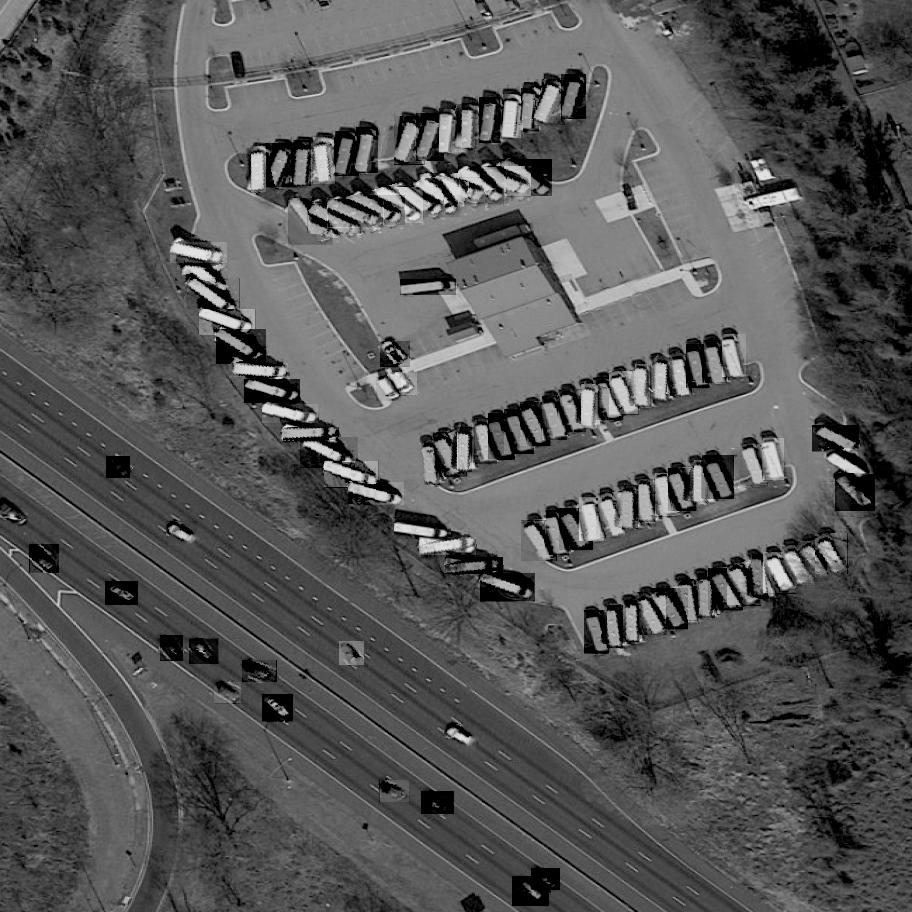large-vehicle: (289, 196, 335, 247), (187, 277, 240, 318), (500, 157, 553, 197), (179, 255, 229, 297), (419, 172, 460, 222), (458, 165, 504, 208), (216, 327, 266, 366), (375, 184, 423, 224), (300, 437, 358, 470), (308, 201, 362, 236), (391, 184, 446, 218), (347, 194, 405, 226), (477, 165, 532, 198), (328, 199, 384, 230), (652, 586, 688, 633), (834, 473, 875, 514), (199, 308, 256, 337), (433, 431, 468, 477), (709, 566, 744, 612), (727, 561, 762, 607), (480, 573, 535, 602), (265, 142, 298, 190), (522, 519, 558, 563), (822, 449, 867, 484), (534, 79, 567, 126), (702, 453, 734, 501), (559, 506, 593, 551), (394, 117, 425, 166), (324, 461, 380, 488), (504, 408, 536, 455), (763, 550, 796, 595), (798, 540, 834, 581), (244, 378, 300, 404), (816, 531, 849, 575), (636, 591, 668, 636), (593, 376, 624, 422), (521, 401, 552, 447), (348, 482, 404, 507), (609, 371, 640, 416), (558, 387, 587, 435), (416, 113, 444, 162), (783, 544, 814, 588), (812, 424, 859, 453), (434, 177, 486, 203), (740, 442, 769, 488), (489, 413, 517, 460), (597, 491, 625, 538), (669, 468, 698, 513), (171, 242, 228, 264), (579, 496, 604, 544), (584, 610, 610, 656), (561, 74, 586, 121), (445, 557, 503, 577), (262, 404, 319, 424), (336, 131, 360, 178), (543, 396, 568, 441), (356, 127, 379, 175), (705, 337, 728, 385), (723, 333, 747, 379), (546, 509, 569, 557), (419, 538, 477, 557), (313, 137, 336, 184), (686, 344, 710, 389), (475, 417, 497, 466), (655, 472, 678, 518), (400, 279, 456, 297), (480, 96, 501, 144), (671, 351, 692, 398), (763, 437, 784, 481), (439, 108, 459, 153), (653, 357, 672, 403), (395, 523, 449, 539), (502, 94, 521, 139), (294, 140, 312, 187), (679, 579, 698, 623), (234, 363, 288, 378), (753, 554, 770, 599), (607, 605, 624, 649), (456, 427, 472, 472), (700, 573, 716, 618), (582, 384, 598, 428), (425, 440, 440, 486), (251, 146, 266, 192), (283, 428, 338, 440), (640, 479, 655, 522), (462, 103, 476, 149), (524, 89, 539, 131), (623, 485, 637, 529), (636, 364, 650, 406), (626, 601, 639, 642), (695, 461, 707, 502)
small-vehicle: (513, 872, 552, 908), (189, 636, 219, 668), (261, 695, 293, 725), (381, 338, 410, 370), (30, 543, 60, 573), (243, 658, 277, 684), (445, 723, 479, 749), (388, 369, 417, 399), (106, 580, 138, 607), (422, 790, 455, 816), (167, 520, 197, 547), (376, 374, 402, 403), (339, 639, 365, 668), (531, 866, 561, 891), (380, 779, 410, 804), (107, 455, 131, 482), (215, 682, 242, 706), (160, 635, 183, 661)
